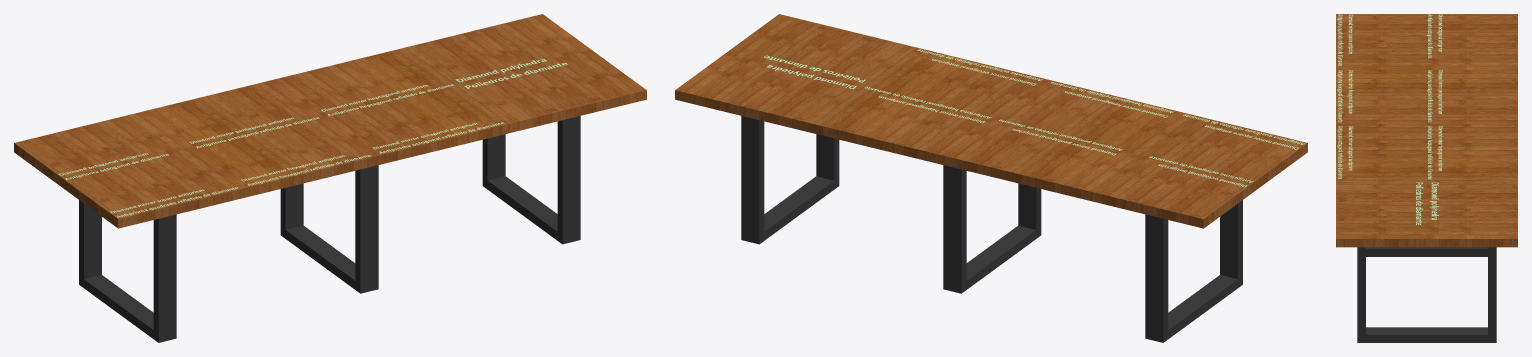
Rendered from diamonds3.glb.
3 views of the same model, side by side, from view 1: azimuth 30°, elevation 25°; view 2: azimuth 150°, elevation 25°; view 3: azimuth 270°, elevation 25° (orthographic). The views are drawn at different scales.
Parts seen in each view (by area): view 1: object 1, Composant#1 (×3), Diamond polyhedr#1, Diamond mirror h#1, Diamond mirror p, Diamond mirror h, Diamond mirror o; view 2: object 1, Composant#1 (×3), Diamond polyhedr#1, Diamond mirror h#1, Diamond mirror o, Diamond mirror p, Diamond mirror h; view 3: object 1, Composant#1 (×2), Diamond polyhedr#1, Diamond mirror o, Diamond mirror h, Diamond mirror p, Diamond mirror h#1, Diamond mirror s, Diamond octagona.
Boxes of the visible parts, left/top/right/bottom form: object 1: left=14, top=14, right=646, bottom=228; Composant#1 (×3): left=79, top=116, right=580, bottom=342; Diamond polyhedr#1: left=455, top=59, right=567, bottom=88; Diamond mirror h#1: left=321, top=84, right=453, bottom=116; Diamond mirror p: left=189, top=117, right=319, bottom=148; Diamond mirror h: left=241, top=155, right=370, bottom=185; Diamond mirror o: left=372, top=122, right=504, bottom=153; object 1: left=675, top=14, right=1307, bottom=228; Composant#1 (×3): left=741, top=116, right=1242, bottom=342; Diamond polyhedr#1: left=764, top=55, right=865, bottom=89; Diamond mirror h#1: left=864, top=86, right=991, bottom=123; Diamond mirror o: left=917, top=49, right=1042, bottom=85; Diamond mirror p: left=999, top=119, right=1122, bottom=155; Diamond mirror h: left=1051, top=82, right=1174, bottom=117; object 1: left=1336, top=14, right=1517, bottom=247; Composant#1 (×2): left=1357, top=247, right=1496, bottom=342; Diamond polyhedr#1: left=1416, top=182, right=1438, bottom=224; Diamond mirror o: left=1337, top=126, right=1353, bottom=178; Diamond mirror h: left=1337, top=70, right=1353, bottom=122; Diamond mirror p: left=1427, top=70, right=1442, bottom=122; Diamond mirror h#1: left=1426, top=126, right=1442, bottom=179; Diamond mirror s: left=1337, top=14, right=1353, bottom=65; Diamond octagona: left=1426, top=14, right=1443, bottom=58.
Size of the model in its own units: 2.93 by 0.7711 by 1.
Materials: 3 (1 with a texture image).
